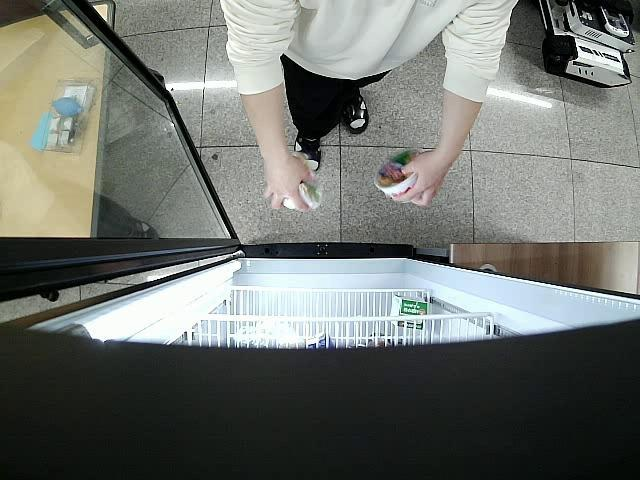09_yukGaeJang: (374, 147, 422, 202), (282, 154, 323, 210)
